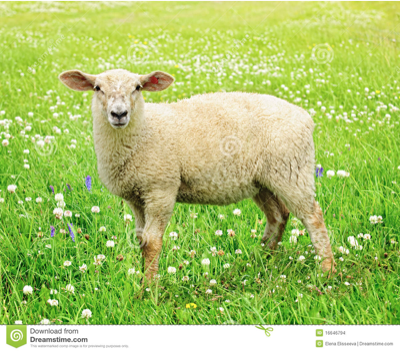koyun: (57, 69, 337, 296)
